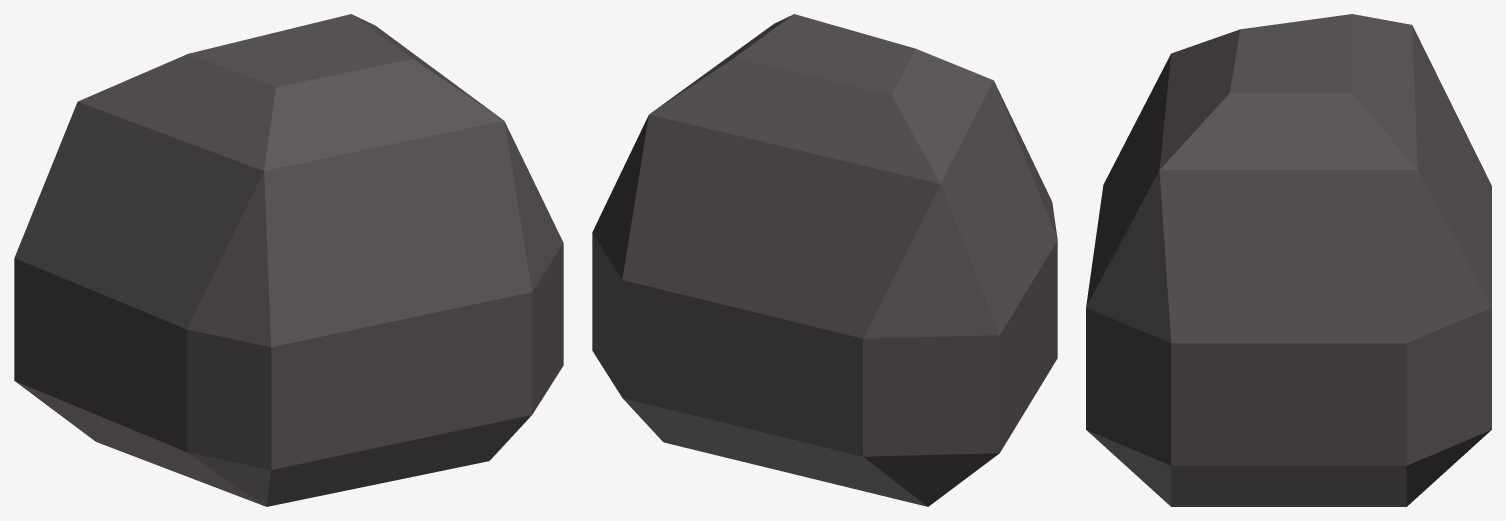
File: Rock_01.fbx
3 views of the same model, side by side, from view 1: azimuth 30°, elevation 25°; view 2: azimuth 150°, elevation 25°; view 3: azimuth 270°, elevation 25° (orthographic). The views are drawn at different scales.
Parts seen in each view (by area): view 1: Rock_01; view 2: Rock_01; view 3: Rock_01.
Part boxes in pixels (bbox=[...]): Rock_01: bbox=[14, 14, 563, 506]; Rock_01: bbox=[592, 14, 1057, 506]; Rock_01: bbox=[1086, 14, 1491, 506].
Size of the model in its own units: 31.69 by 27.78 by 26.15.
